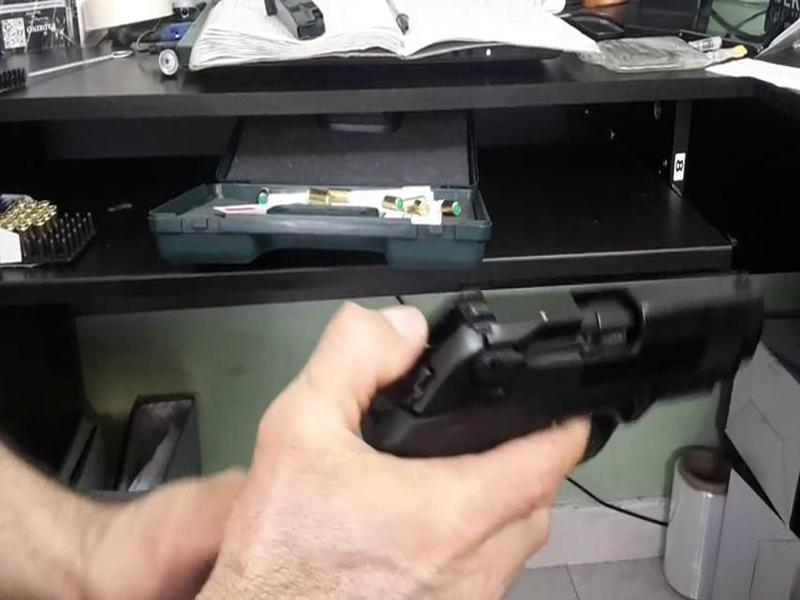Pistola: (359, 263, 770, 494)
